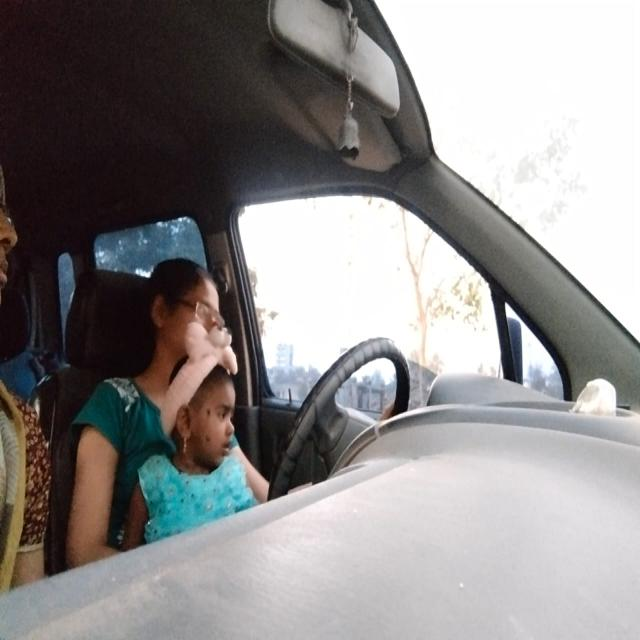child: (155, 348, 248, 474), (139, 254, 232, 350)
person: (2, 155, 32, 359)
